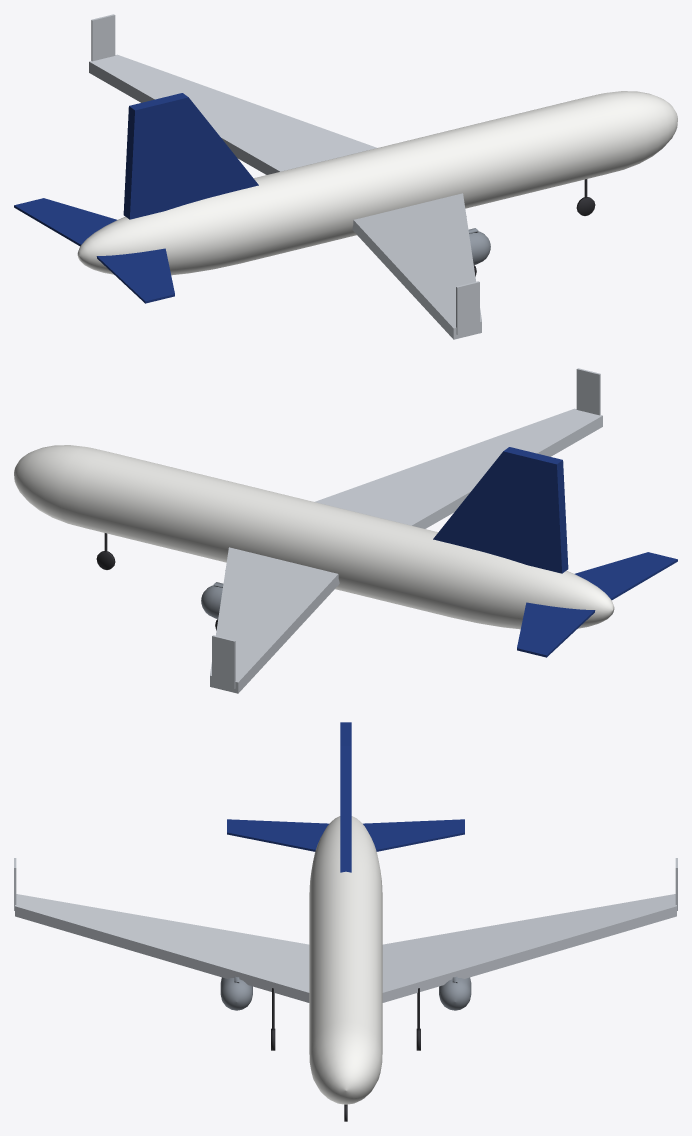
The picture shows the model from 3 angles, top to bottom: view 1: azimuth 30°, elevation 25°; view 2: azimuth 150°, elevation 25°; view 3: azimuth 270°, elevation 25°; orthographic projection. The views are drawn at different scales.
Visible parts, largest first — view 1: fuselage, wings, tail, engines; view 2: fuselage, wings, tail, engines; view 3: wings, fuselage, tail, engines.
Part boxes in pixels (left/top/right/bottom): fuselage: left=77, top=91, right=677, bottom=275; wings: left=89, top=14, right=481, bottom=339; tail: left=14, top=93, right=258, bottom=303; engines: left=468, top=228, right=490, bottom=265; fuselage: left=14, top=445, right=614, bottom=629; wings: left=210, top=368, right=602, bottom=693; tail: left=433, top=447, right=677, bottom=657; engines: left=201, top=582, right=223, bottom=619; wings: left=14, top=858, right=677, bottom=1002; fuselage: left=309, top=816, right=382, bottom=1104; tail: left=227, top=722, right=464, bottom=872; engines: left=220, top=976, right=471, bottom=1010.
Size of the model in its own units: 33.8 by 11.79 by 35.92.
